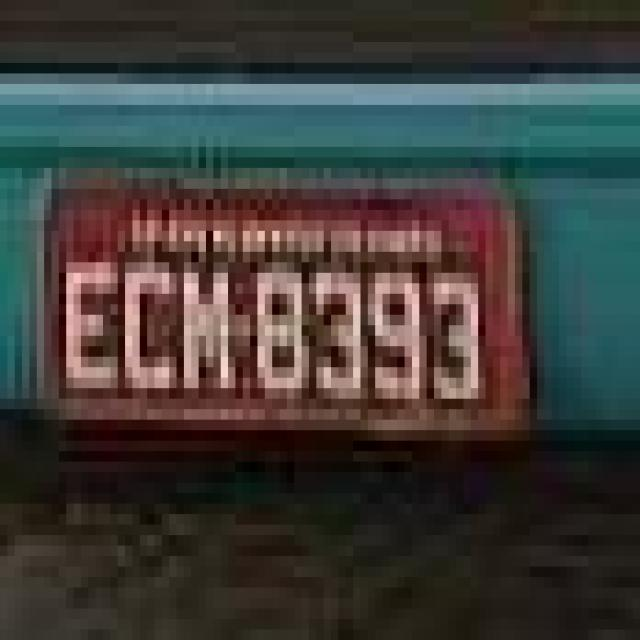3: (310, 254, 366, 413), (430, 260, 488, 409)
8: (253, 250, 308, 415)
9: (366, 256, 429, 410)
C: (122, 248, 180, 401)
E: (65, 259, 117, 398)
M: (181, 244, 231, 405)
